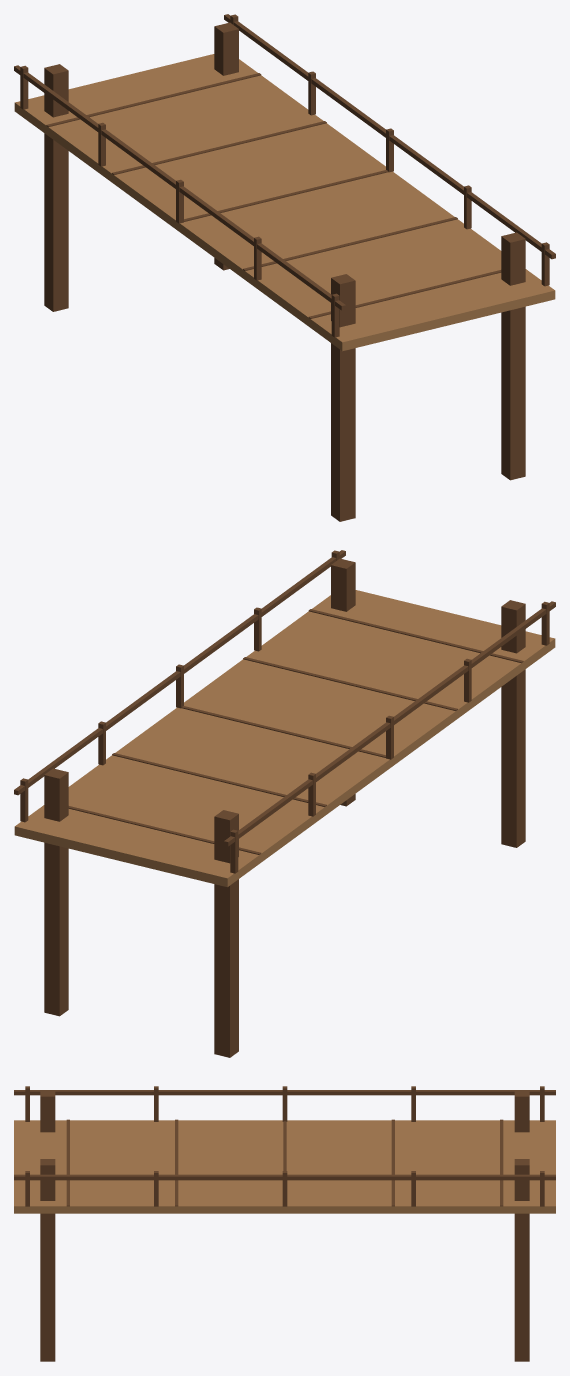
Rendered from road.boardwalk-pier.glb.
3 renders of one model, top to bottom at view 1: azimuth 30°, elevation 25°; view 2: azimuth 150°, elevation 25°; view 3: azimuth 270°, elevation 25°, orthographic. The views are drawn at different scales.
Parts seen in each view (by area): view 1: road.boardwalk-pier; view 2: road.boardwalk-pier; view 3: road.boardwalk-pier.
Part boxes in pixels (left/top/right/bottom): road.boardwalk-pier: left=14, top=14, right=555, bottom=521; road.boardwalk-pier: left=14, top=550, right=555, bottom=1057; road.boardwalk-pier: left=14, top=1086, right=555, bottom=1361.
Bounding box in the file's own units: 3.03 × 3.2 × 8.
